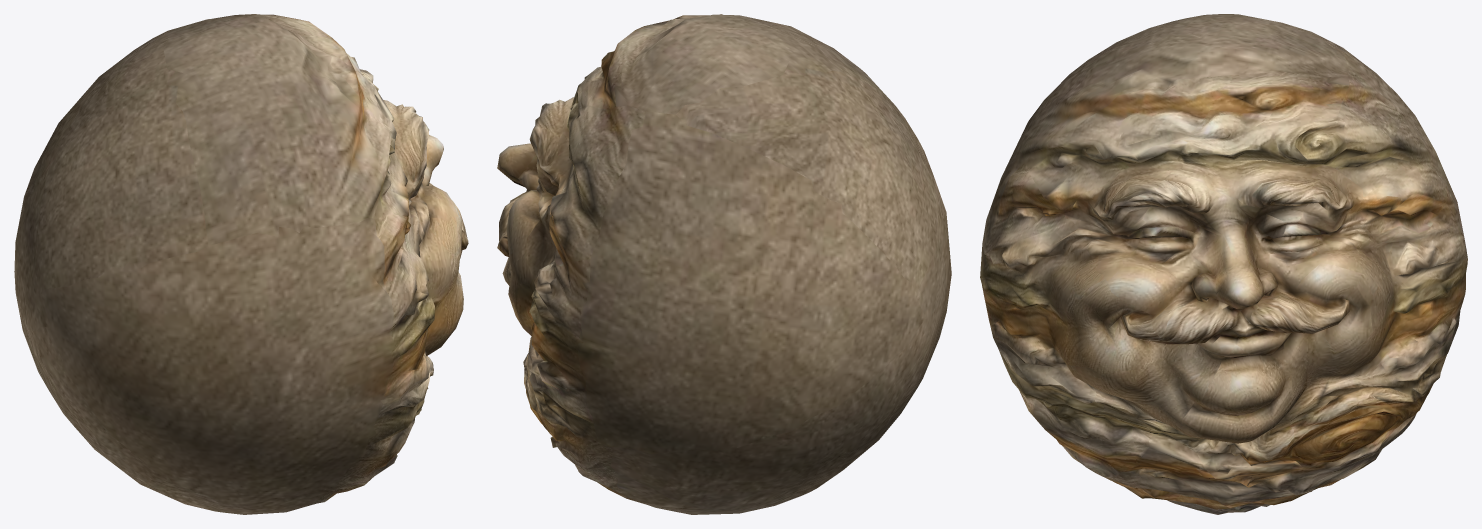
Rendered from T-jupiter.glb.
The picture shows the model from 3 angles, left to right: view 1: azimuth 30°, elevation 25°; view 2: azimuth 150°, elevation 25°; view 3: azimuth 270°, elevation 25°; orthographic projection.
Parts seen in each view (by area): view 1: tripo_node_a988890d-244c-4c53-9ec5-b848a09646a1; view 2: tripo_node_a988890d-244c-4c53-9ec5-b848a09646a1; view 3: tripo_node_a988890d-244c-4c53-9ec5-b848a09646a1.
Part boxes in pixels (box(x1,y1,x2,y2)): tripo_node_a988890d-244c-4c53-9ec5-b848a09646a1: box(14, 14, 468, 514); tripo_node_a988890d-244c-4c53-9ec5-b848a09646a1: box(497, 14, 951, 514); tripo_node_a988890d-244c-4c53-9ec5-b848a09646a1: box(980, 14, 1467, 514).
Size of the model in its own units: 0.908 by 0.9785 by 0.9343.
1 material, 1 textured.
